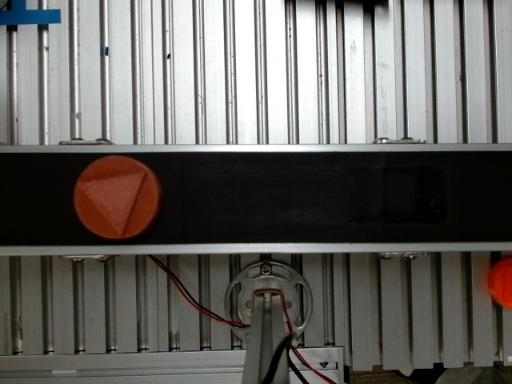Brown_Waper: (74, 156, 162, 239)
Not_Square: (77, 171, 147, 237)
